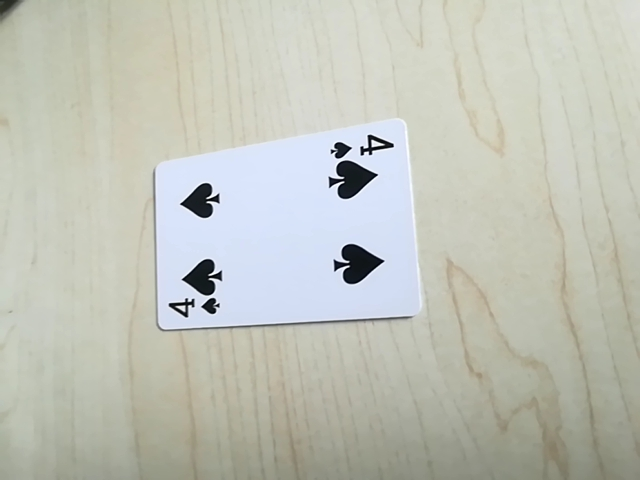ht 4: (328, 128, 397, 160), (162, 293, 227, 325)
